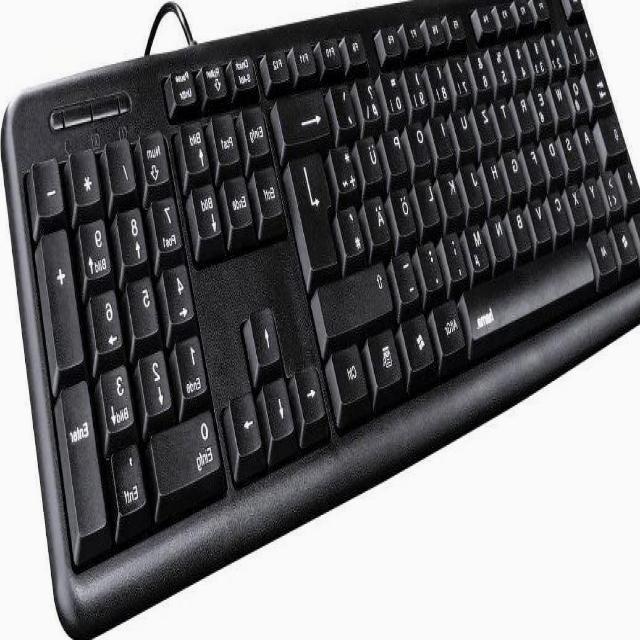0: (383, 67, 410, 119)
1: (32, 152, 66, 216), (165, 259, 197, 321), (106, 134, 137, 194), (70, 145, 102, 203), (563, 26, 585, 69)
2: (118, 203, 150, 265), (546, 27, 568, 70)
3: (94, 265, 128, 329), (529, 32, 552, 78)
4: (510, 36, 533, 80)
5: (491, 40, 515, 88)
6: (472, 46, 494, 94)
7: (451, 51, 475, 101)
8: (429, 55, 455, 109)
9: (408, 61, 432, 113)
a: (578, 120, 602, 164)
accent: (331, 79, 360, 134)
ae: (366, 191, 394, 245)
alt-left: (591, 227, 621, 276)
altgr-right: (434, 296, 468, 356)
b: (510, 203, 536, 253)
c: (550, 188, 574, 234)
caret: (578, 20, 599, 60)
comma: (445, 228, 471, 282)
d: (544, 134, 567, 177)
del: (274, 85, 332, 145)
e: (533, 82, 556, 128)
enter: (290, 148, 340, 273)
f: (525, 140, 547, 182)
g: (505, 146, 529, 192)
h: (484, 154, 510, 198)
hash: (338, 200, 368, 258)
i: (434, 112, 458, 160)
j: (463, 158, 487, 206)
k: (440, 168, 467, 216)
keyboard: (2, 0, 640, 640)
l: (417, 176, 443, 225)
less: (605, 167, 625, 211)
m: (466, 218, 493, 273)
minus: (394, 247, 422, 302)
n: (490, 211, 514, 259)
o: (409, 118, 435, 166)
oe: (393, 183, 419, 235)
p: (129, 273, 161, 337), (385, 125, 411, 174)
plus: (329, 142, 363, 200)
point: (419, 237, 447, 291)
q: (569, 72, 591, 115)
r: (515, 88, 539, 134)
s: (561, 127, 583, 171)
shift-left: (618, 160, 640, 204)
shift-lock: (598, 107, 628, 155)
shift-right: (317, 259, 395, 339)
space: (463, 234, 597, 350)
ss: (357, 73, 385, 123)
strg-left: (634, 209, 640, 252)
strg-right: (328, 341, 373, 408)
t: (496, 94, 519, 137)
tab: (587, 61, 613, 104)
u: (454, 105, 478, 151)
ue: (359, 134, 385, 182)
v: (531, 195, 555, 243)
w: (553, 77, 574, 119)
x: (568, 181, 591, 225)
y: (587, 173, 608, 217)
z: (476, 99, 500, 145)
